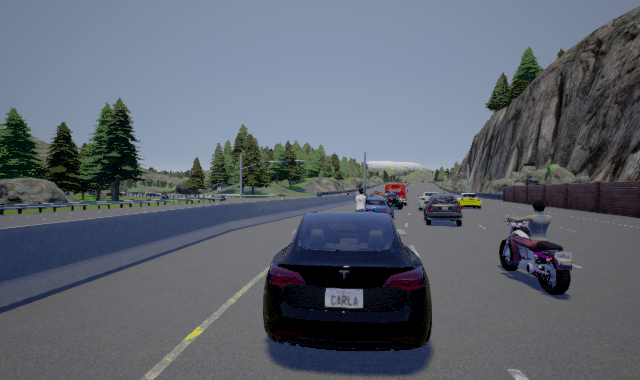motobike: (499, 198, 576, 295)
vehicle: (263, 211, 432, 351), (425, 194, 462, 226), (360, 195, 396, 222), (457, 192, 483, 210)
